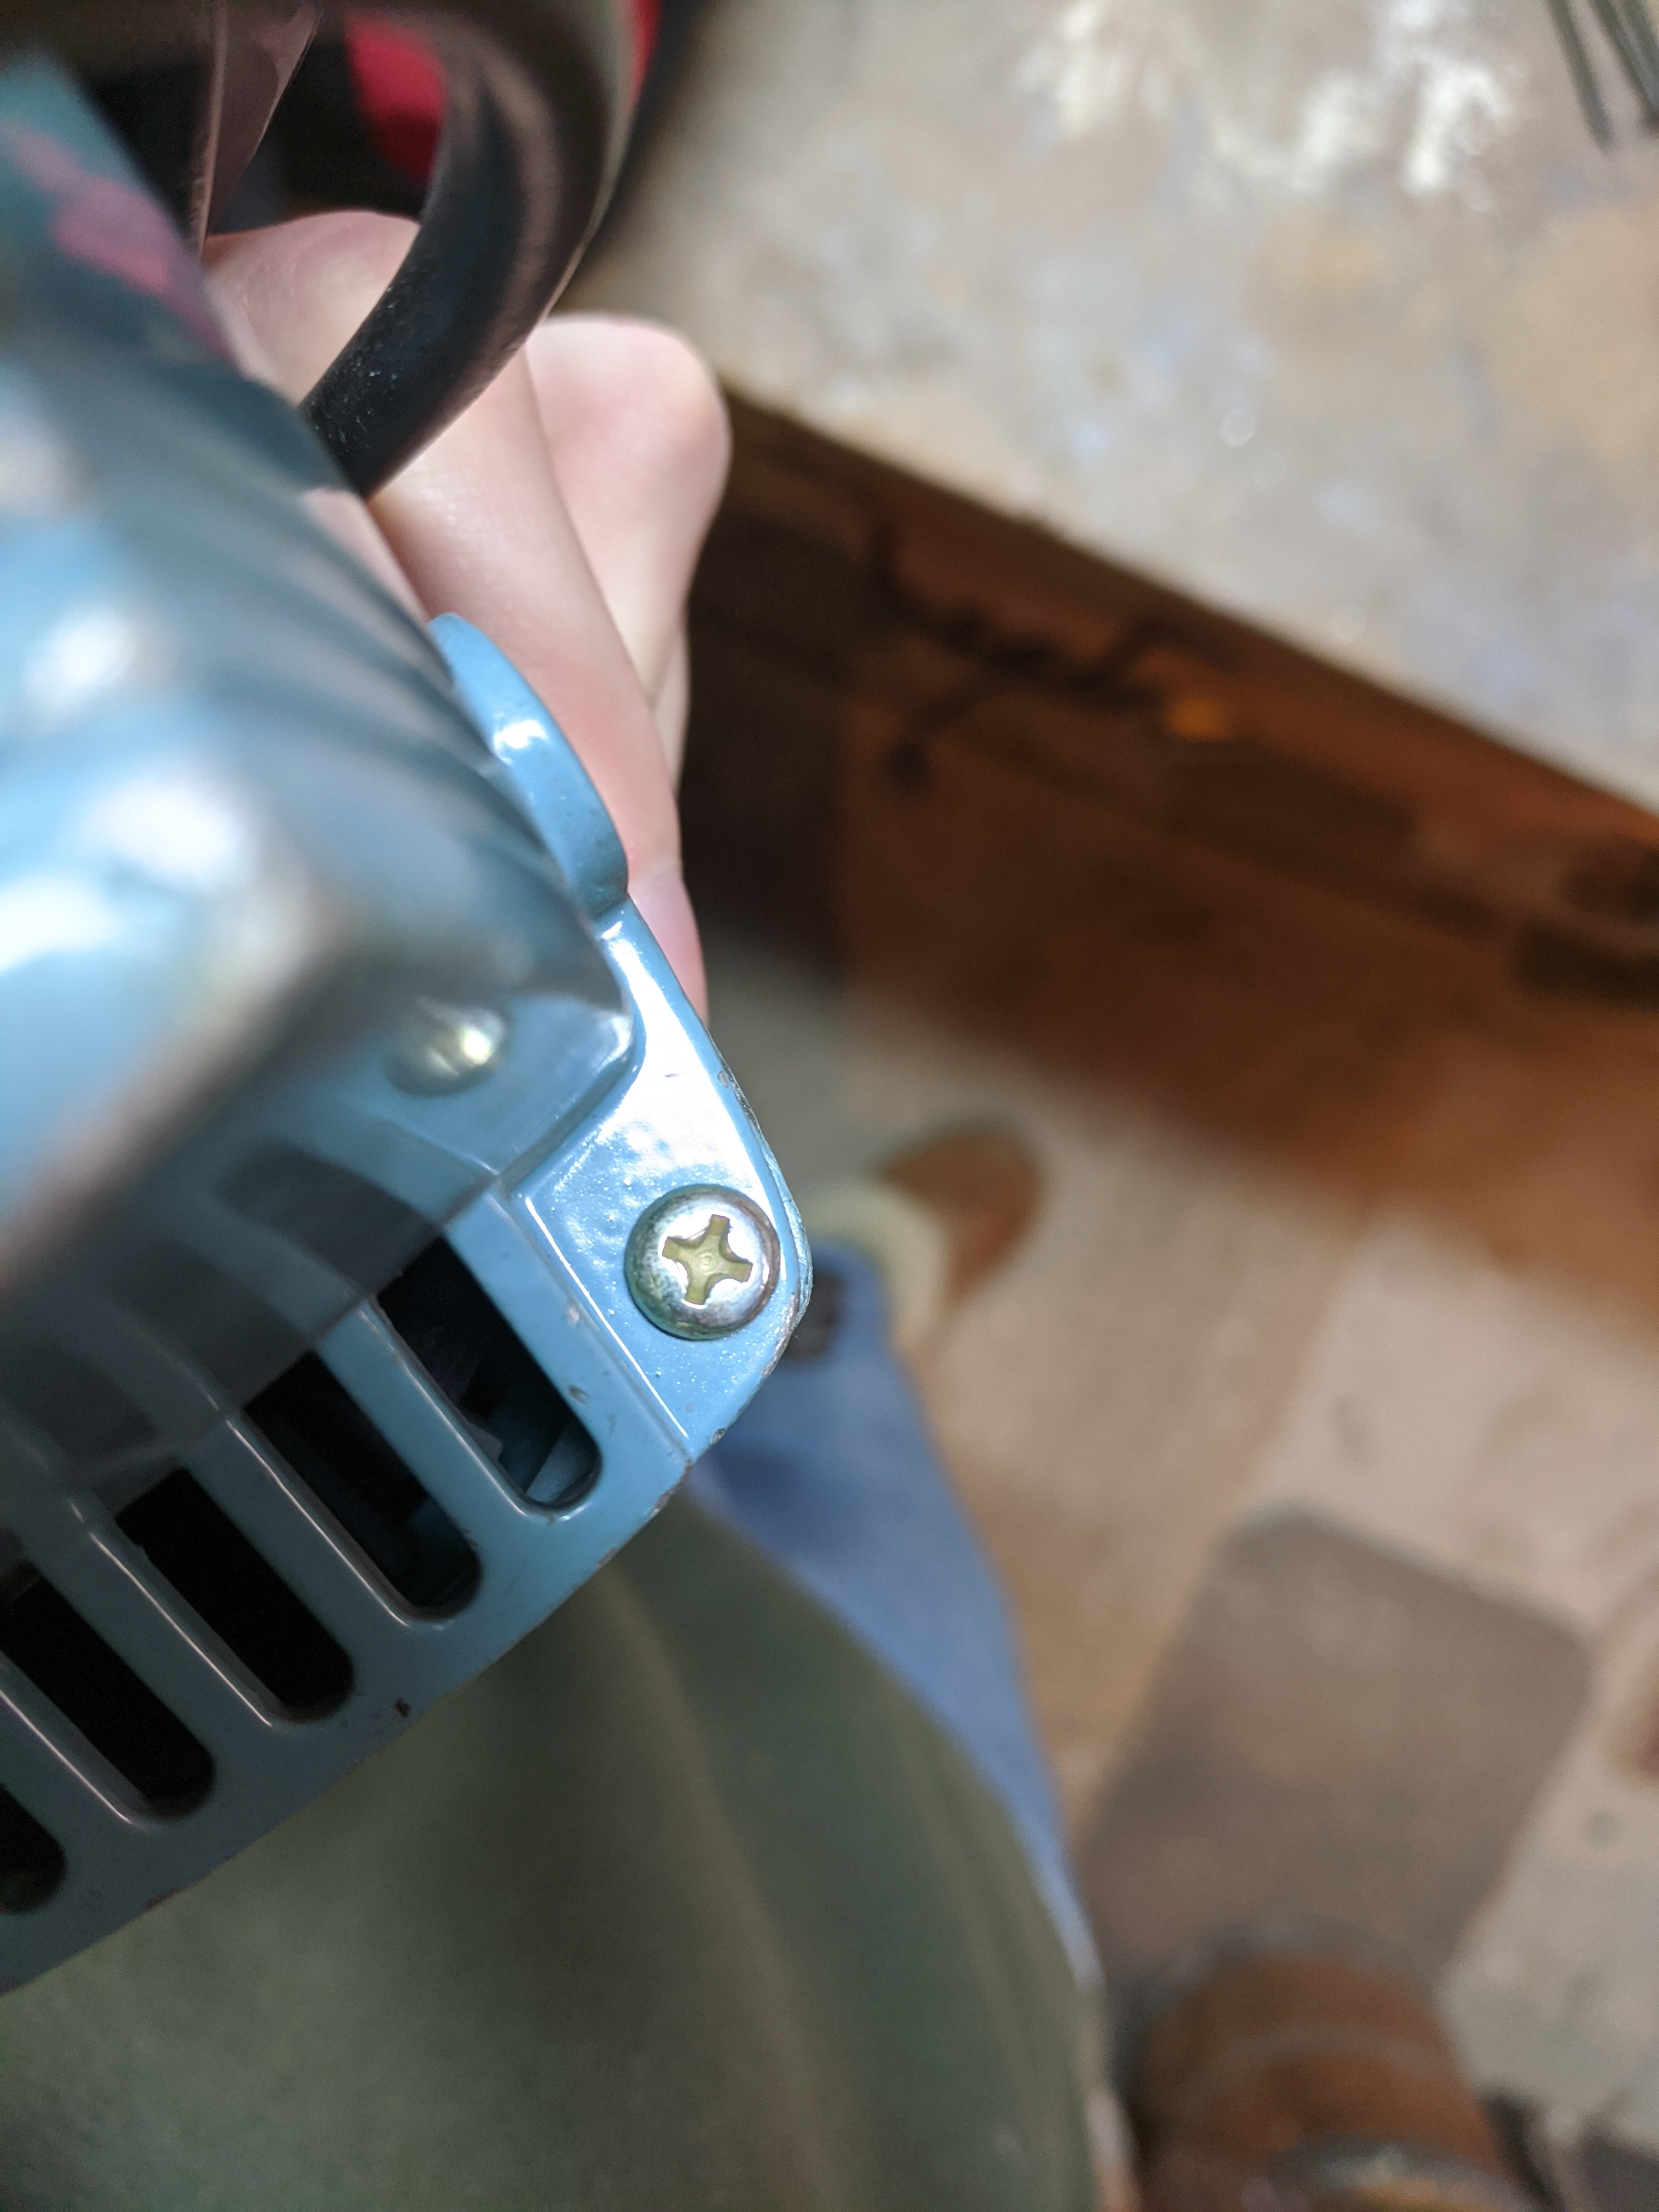cross_recessed_screw: (1337, 1158, 1464, 1284), (929, 1157, 1040, 1252), (566, 1148, 666, 1244), (253, 1129, 336, 1238)
